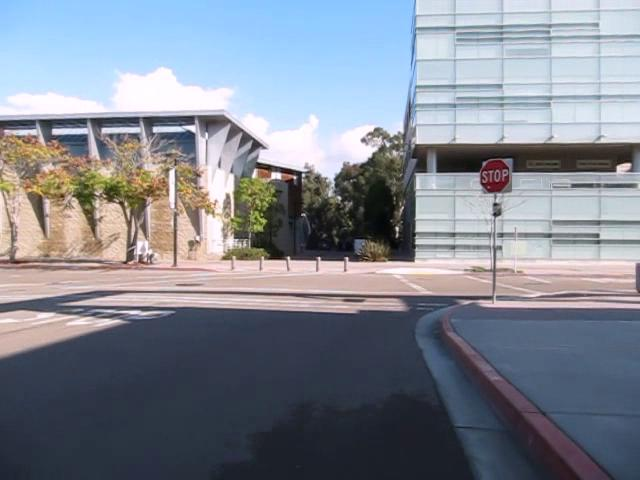stop: (479, 157, 511, 194)
